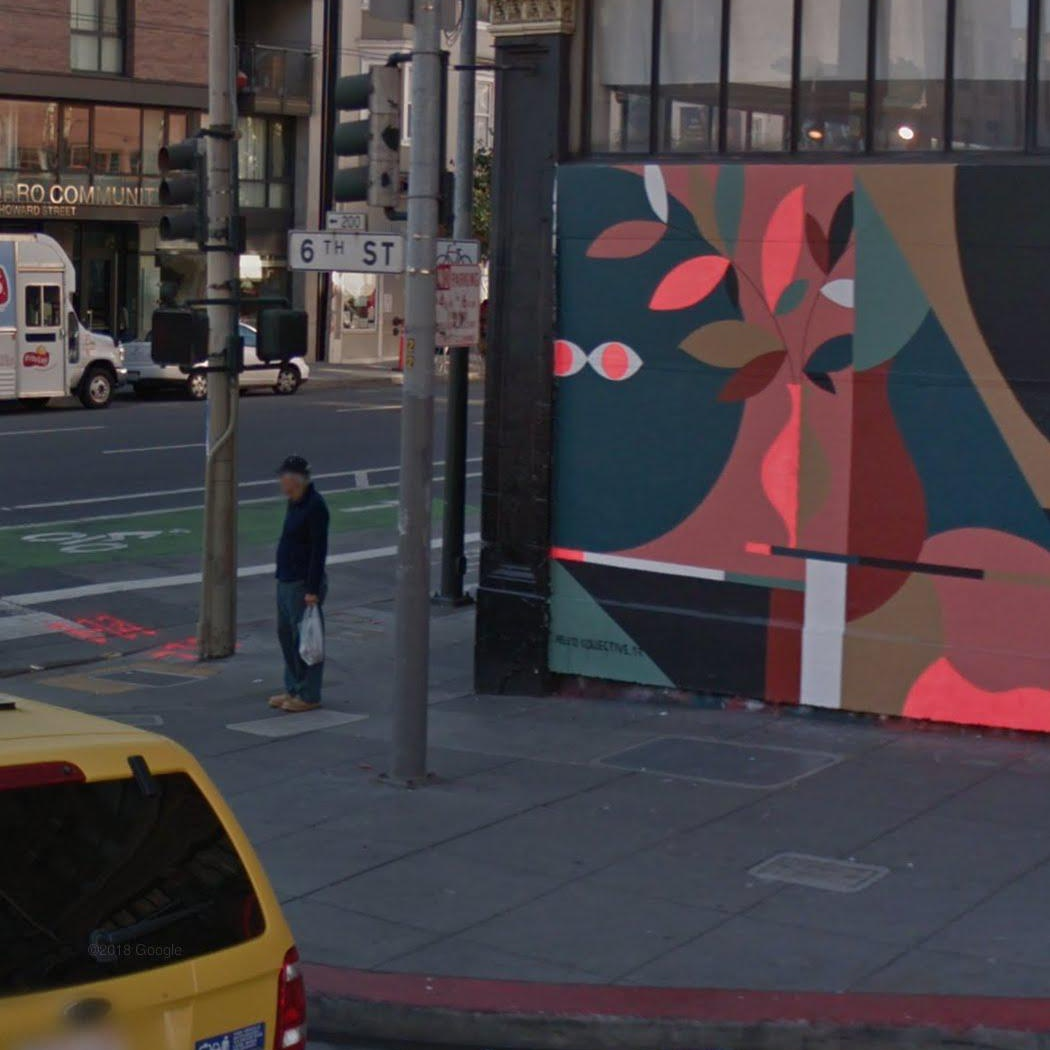No Parking: (436, 264, 481, 347)
